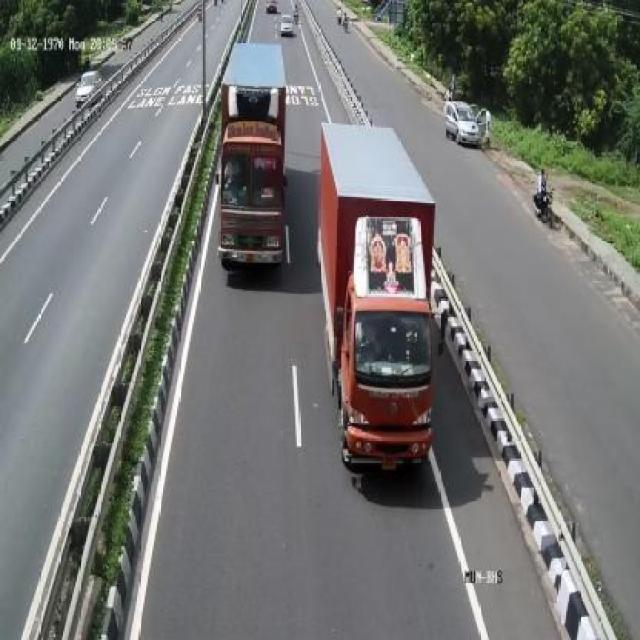car: (277, 1, 301, 38)
